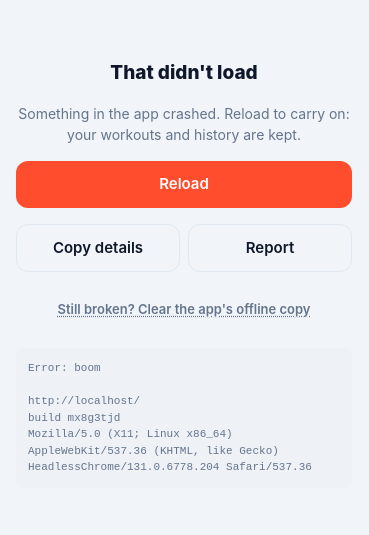
Test case: the recovery screen › offers Reload first and clears nothing until asked twice
Expected: the button does not show "Clear and reload"
Click the button "Still broken? Clear the app's offline copy": click(184, 310) [16,288,352,332]
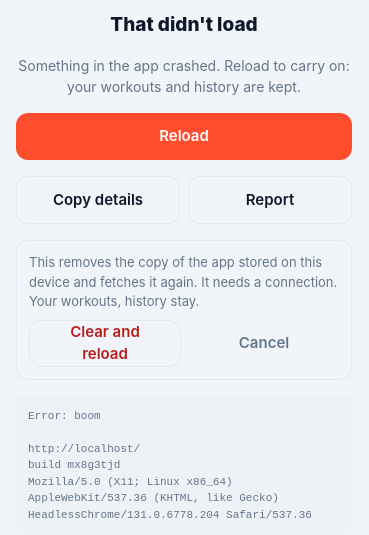
Expected: the text "Your workouts, history stay" is shown, [29,253,339,312]
Expected: the button "Clear and reload" is shown, [29,320,181,367]
Click the button "Cancel": click(264, 343) [189,320,339,367]
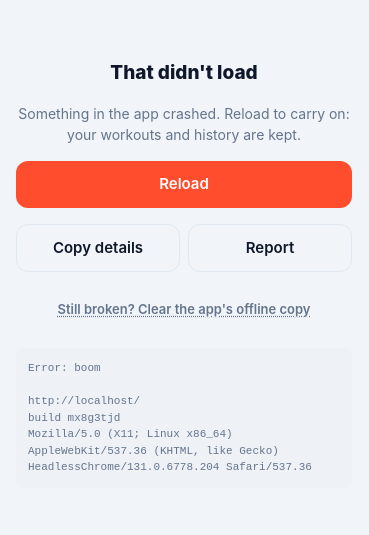
Expected: the button "Clear and reload" is gone
